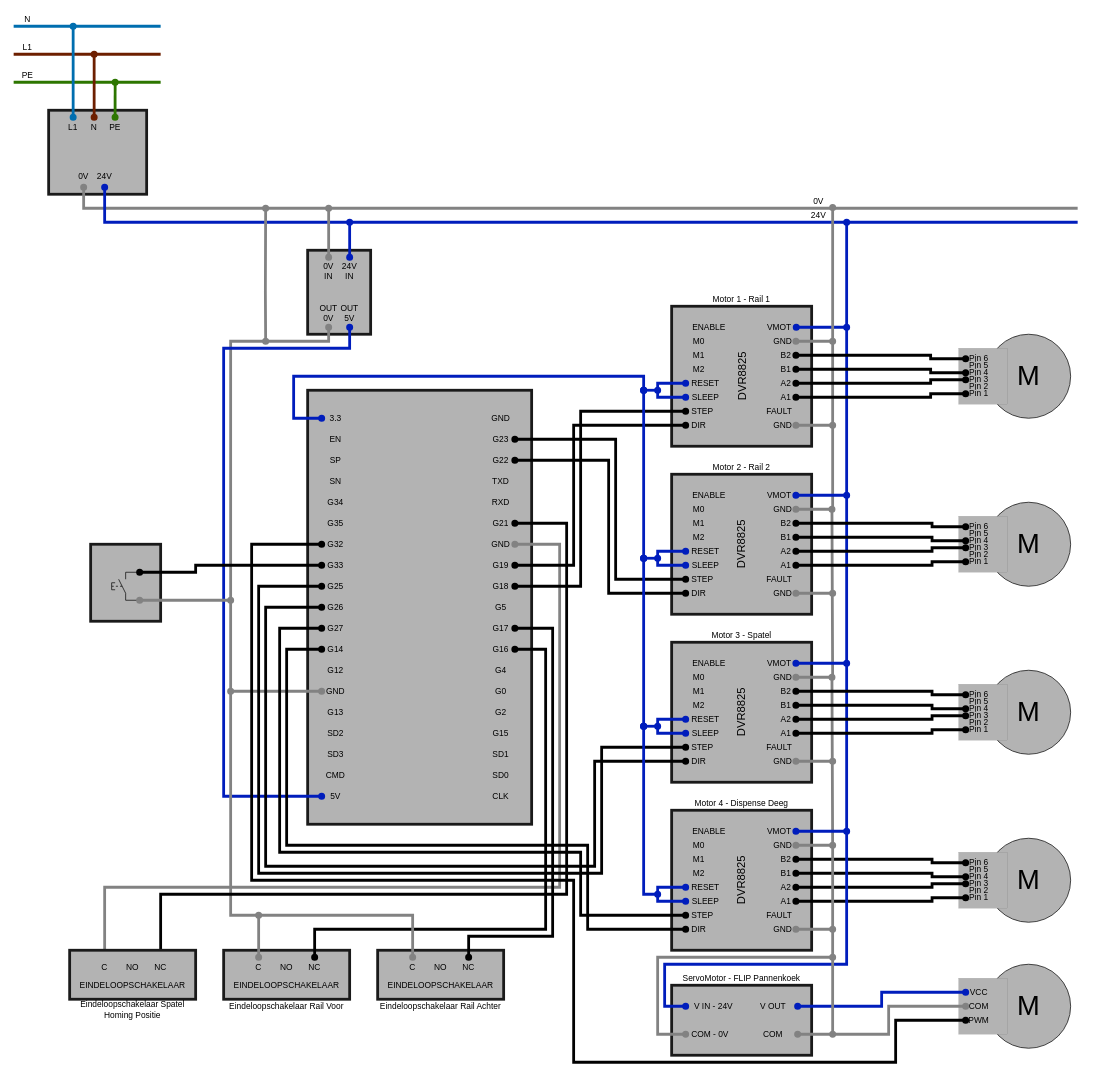
Some shapes in this 1096 by 1082 pixel diagram are drawn without their labels. The shapes that lost their labels are listed below. From the top down, each one's box as (x1, y1, x2, y2) in pixels, then its label:
(47, 108, 148, 195): UHP-350-24
(306, 248, 372, 335): D24V10F5
(89, 542, 162, 622): Schakelaar ON/OFF
(306, 388, 533, 825): ESP32 WROOM 32
(670, 983, 813, 1056): DC/DC
